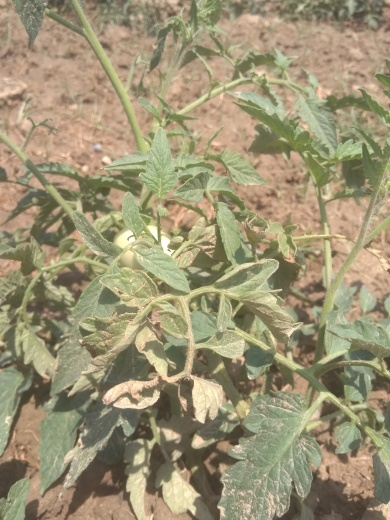tomato diseased leaf: (114, 339, 237, 433)
tomato plant: (1, 127, 386, 512), (111, 223, 183, 283)
